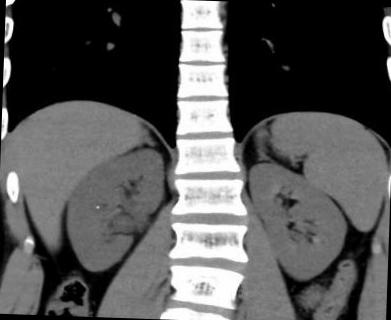Tas_Var: (94, 203, 104, 210)
